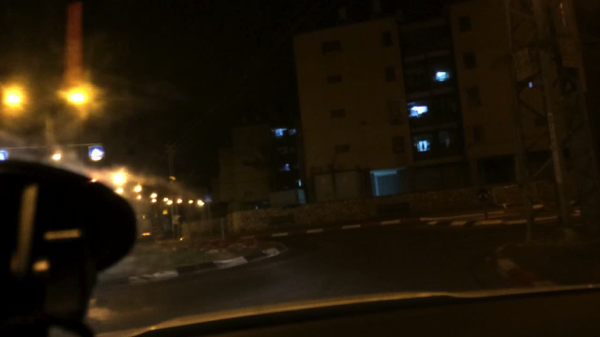bus: (127, 196, 157, 244)
traffic sign: (476, 185, 490, 204), (88, 145, 103, 158), (0, 149, 9, 163)
